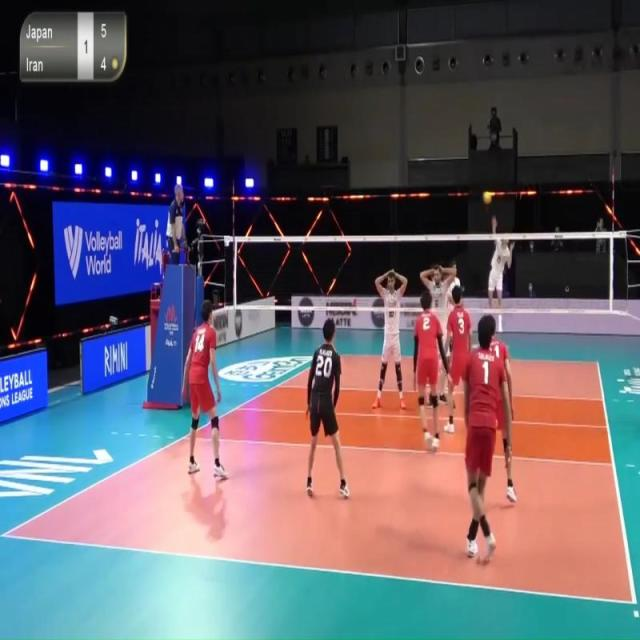volleyball: (482, 190, 493, 208)
